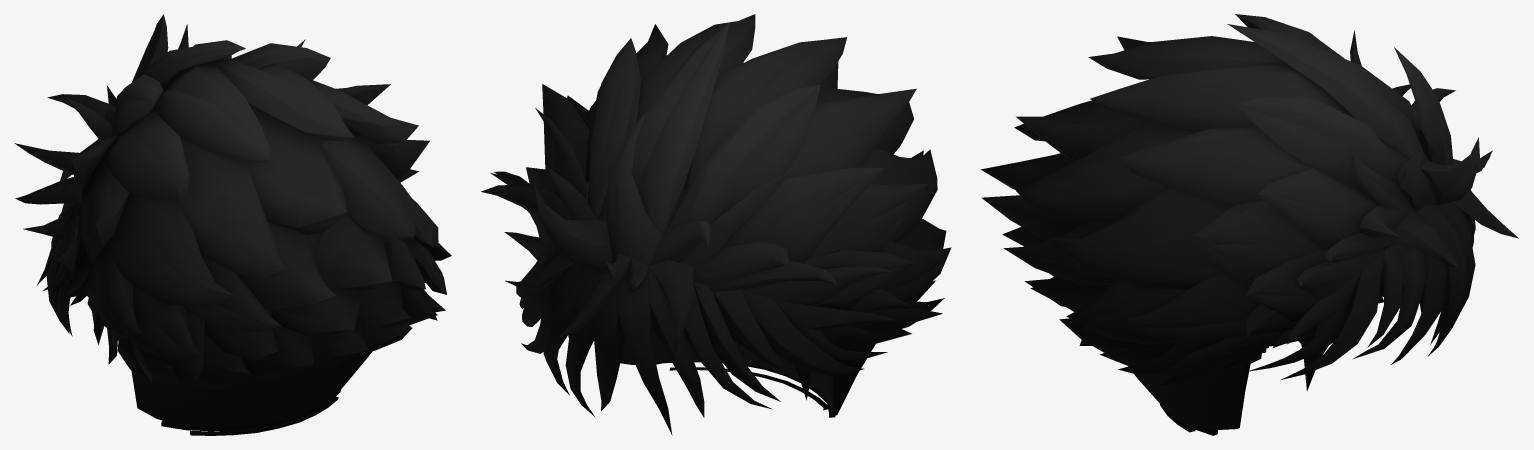
File: 33-Black-Gojo-Anime-Resting-Messy-Hair-17379327411.glb
3 views of the same model, side by side, from view 1: azimuth 30°, elevation 25°; view 2: azimuth 150°, elevation 25°; view 3: azimuth 270°, elevation 25° (orthographic). The views are drawn at different scales.
Visible parts, largest first — view 1: 33-Black-Gojo-Anime-Resting-Messy-Hair-17379327411; view 2: 33-Black-Gojo-Anime-Resting-Messy-Hair-17379327411; view 3: 33-Black-Gojo-Anime-Resting-Messy-Hair-17379327411.
Boxes of the visible parts, x1,y1,x2,y2 form: 33-Black-Gojo-Anime-Resting-Messy-Hair-17379327411: [14, 14, 451, 435]; 33-Black-Gojo-Anime-Resting-Messy-Hair-17379327411: [481, 14, 951, 435]; 33-Black-Gojo-Anime-Resting-Messy-Hair-17379327411: [981, 14, 1518, 435].
Bounding box in the file's own units: 2.04 × 1.84 × 2.42.
1 material, 1 textured.
